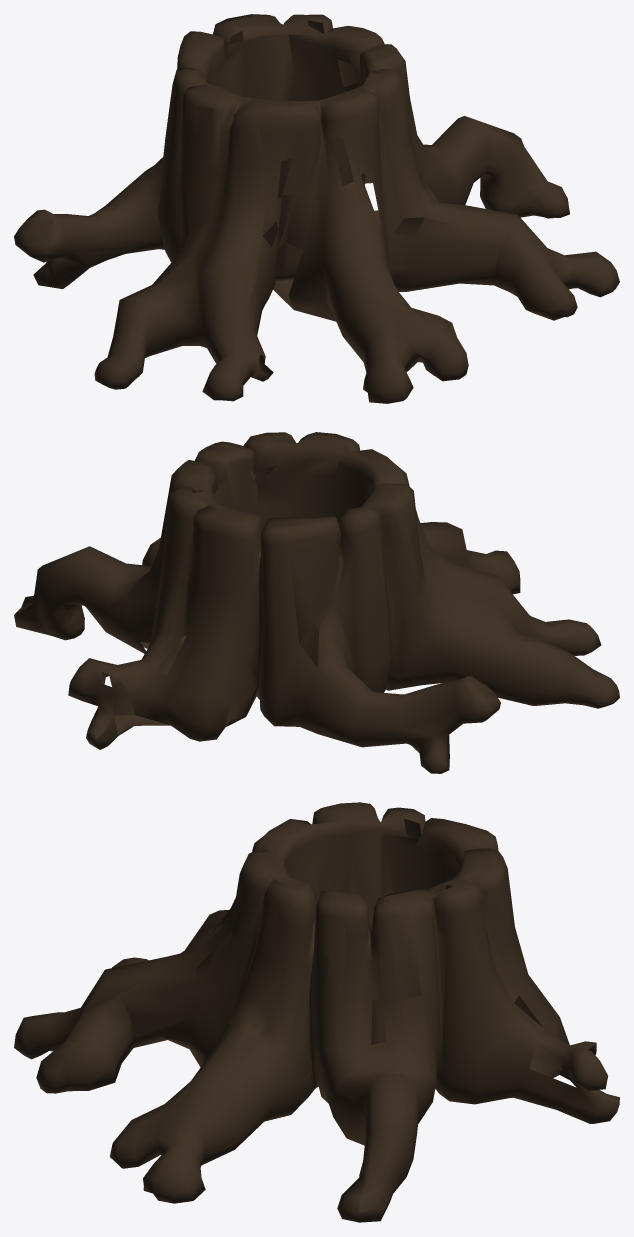
The model's file is tocon_de_arbol.glb.
3 renders of one model, top to bottom at view 1: azimuth 30°, elevation 25°; view 2: azimuth 150°, elevation 25°; view 3: azimuth 270°, elevation 25°, orthographic. The views are drawn at different scales.
Visible parts, largest first — view 1: tocon_de_arbol; view 2: tocon_de_arbol; view 3: tocon_de_arbol.
Part boxes in pixels (box(x1,y1,x2,y2)): tocon_de_arbol: box(14, 14, 619, 403); tocon_de_arbol: box(14, 432, 619, 773); tocon_de_arbol: box(14, 802, 619, 1222).
Size of what is drawn, in the model's own units: 1.57 by 0.6 by 1.44.
1 material, 1 textured.
